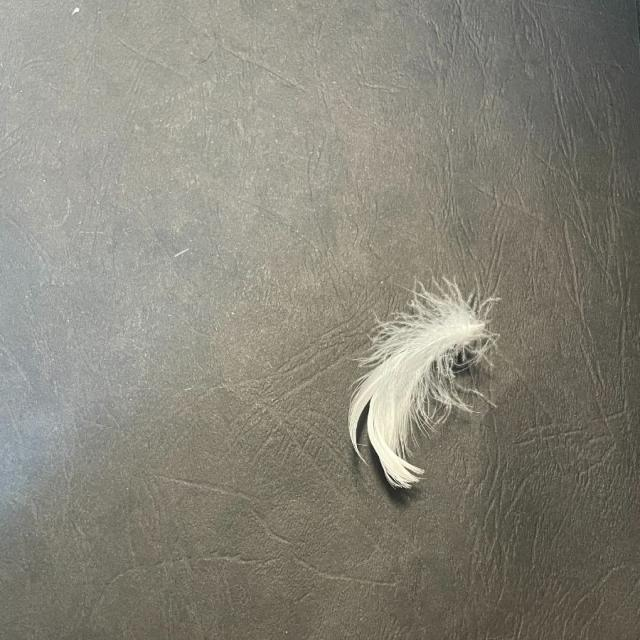feather: (347, 274, 503, 492)
